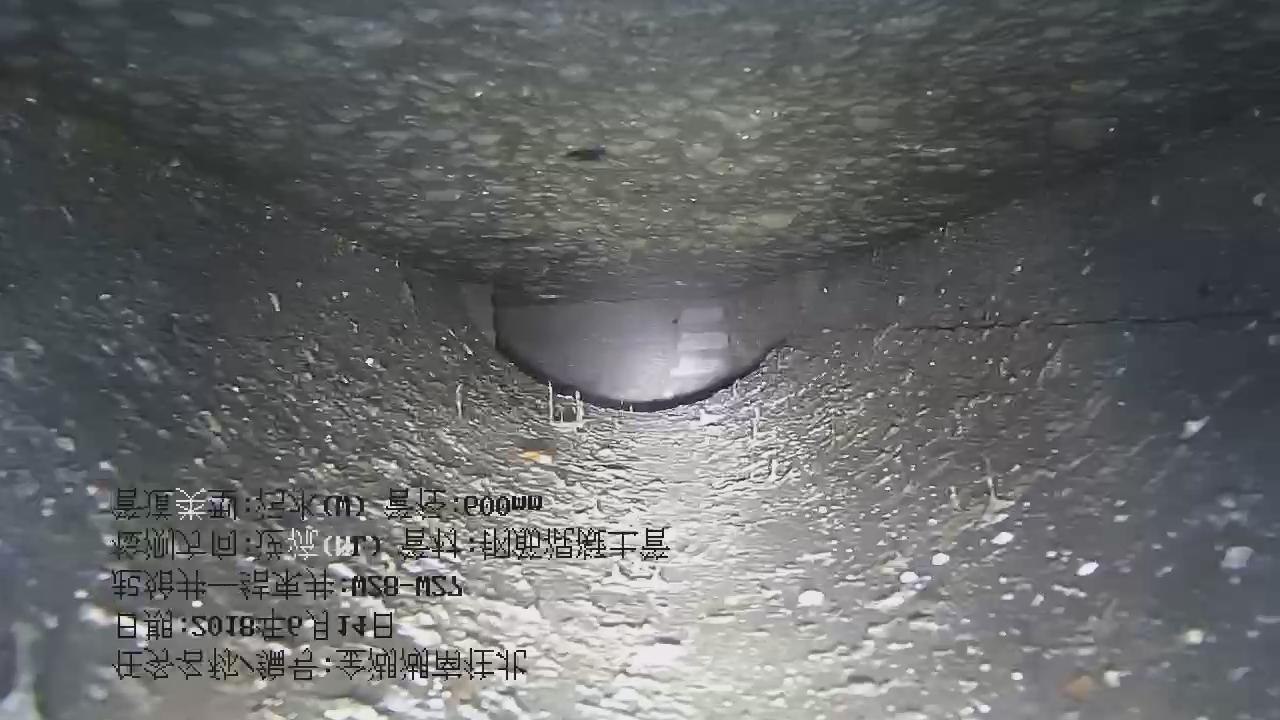FZ: (0, 1, 1279, 300)
